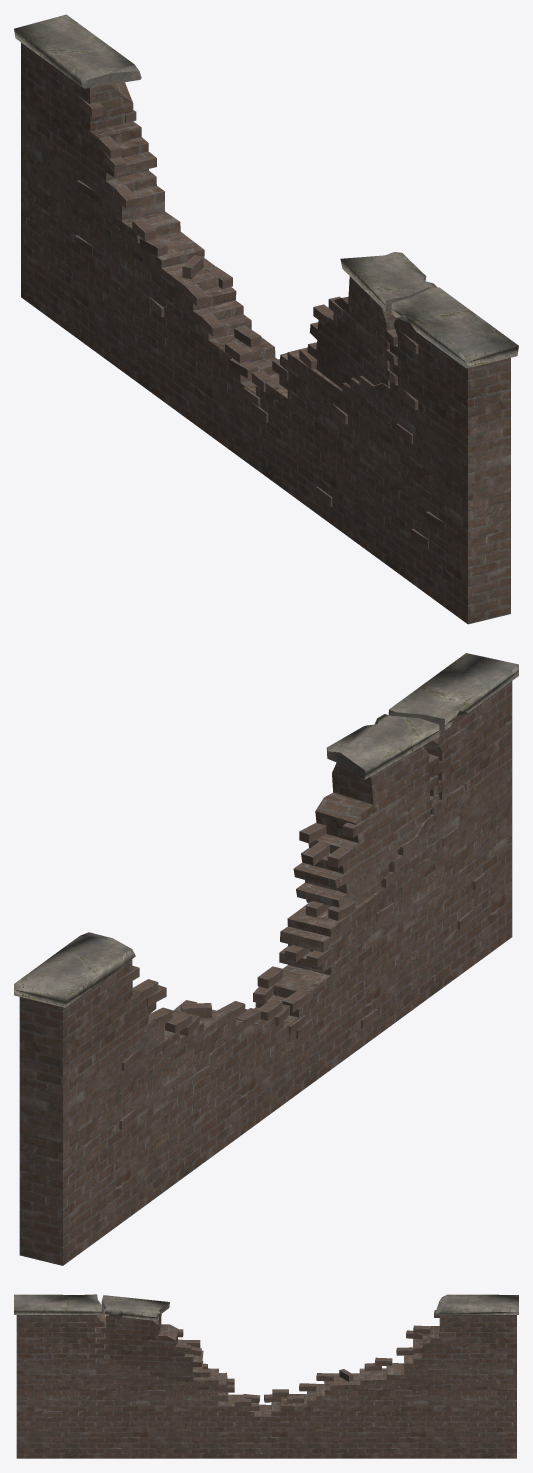
Rendered from wall_plaster_300x900_collapsed.glb.
3 views of the same model, one above another, from view 1: azimuth 30°, elevation 25°; view 2: azimuth 150°, elevation 25°; view 3: azimuth 270°, elevation 25° (orthographic). The views are drawn at different scales.
Parts seen in each view (by area): view 1: wall_300x900_collapsed_LOD0; view 2: wall_300x900_collapsed_LOD0; view 3: wall_300x900_collapsed_LOD0.
Boxes of the visible parts, bbox=[...] form: wall_300x900_collapsed_LOD0: bbox=[14, 14, 518, 624]; wall_300x900_collapsed_LOD0: bbox=[14, 653, 518, 1265]; wall_300x900_collapsed_LOD0: bbox=[14, 1294, 518, 1458].
Bounding box in the file's own units: 0.753 × 3 × 9.08.
Materials: 2 (2 with a texture image).
